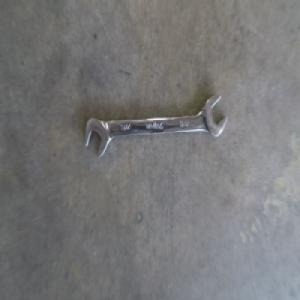Wrench: (87, 96, 222, 159)
